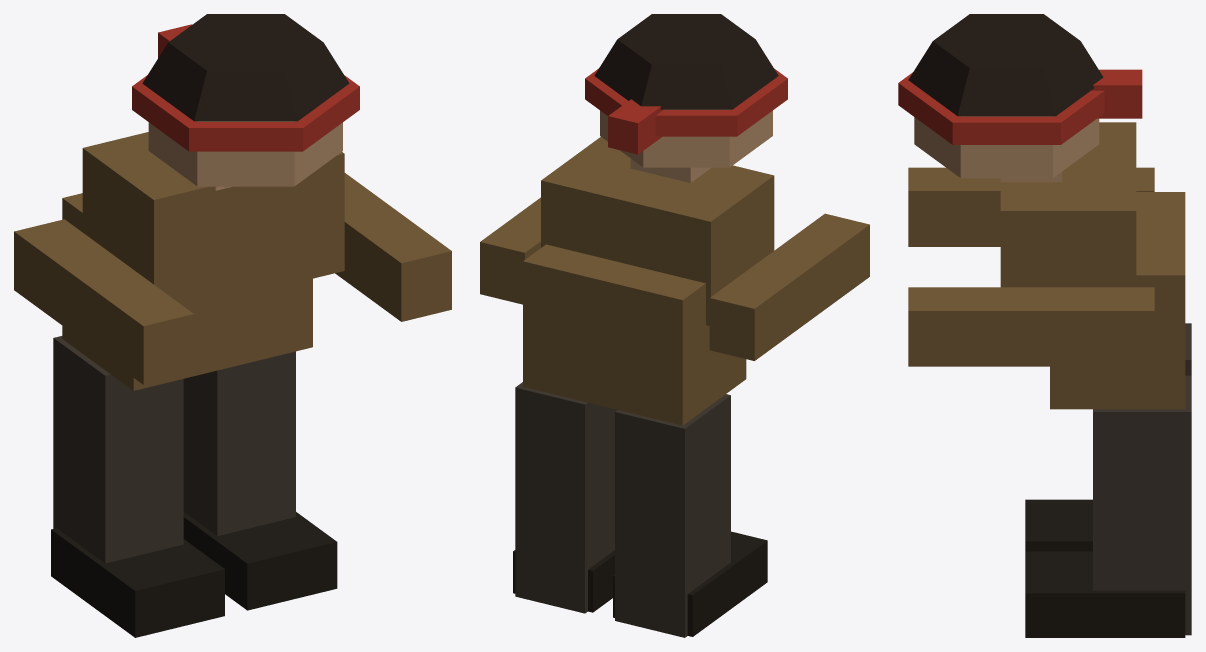
Rendered from enemy_runner.glb.
The picture shows the model from 3 angles, left to right: view 1: azimuth 30°, elevation 25°; view 2: azimuth 150°, elevation 25°; view 3: azimuth 270°, elevation 25°; orthographic projection. The views are drawn at different scales.
Visible parts, largest first — view 1: body, legR, legL; view 2: body, legR, legL; view 3: body, legL, legR.
Part boxes in pixels (x1,y1,x2,y2): body: (14,14,451,390); legR: (51,336,224,637); legL: (183,351,337,610); body: (480,14,869,425); legR: (613,394,767,637); legL: (513,382,617,613); body: (898,14,1185,409); legL: (1025,375,1191,637); legR: (1025,323,1191,551).
Bounding box in the file's own units: 0.275 × 0.4925 × 0.238.
